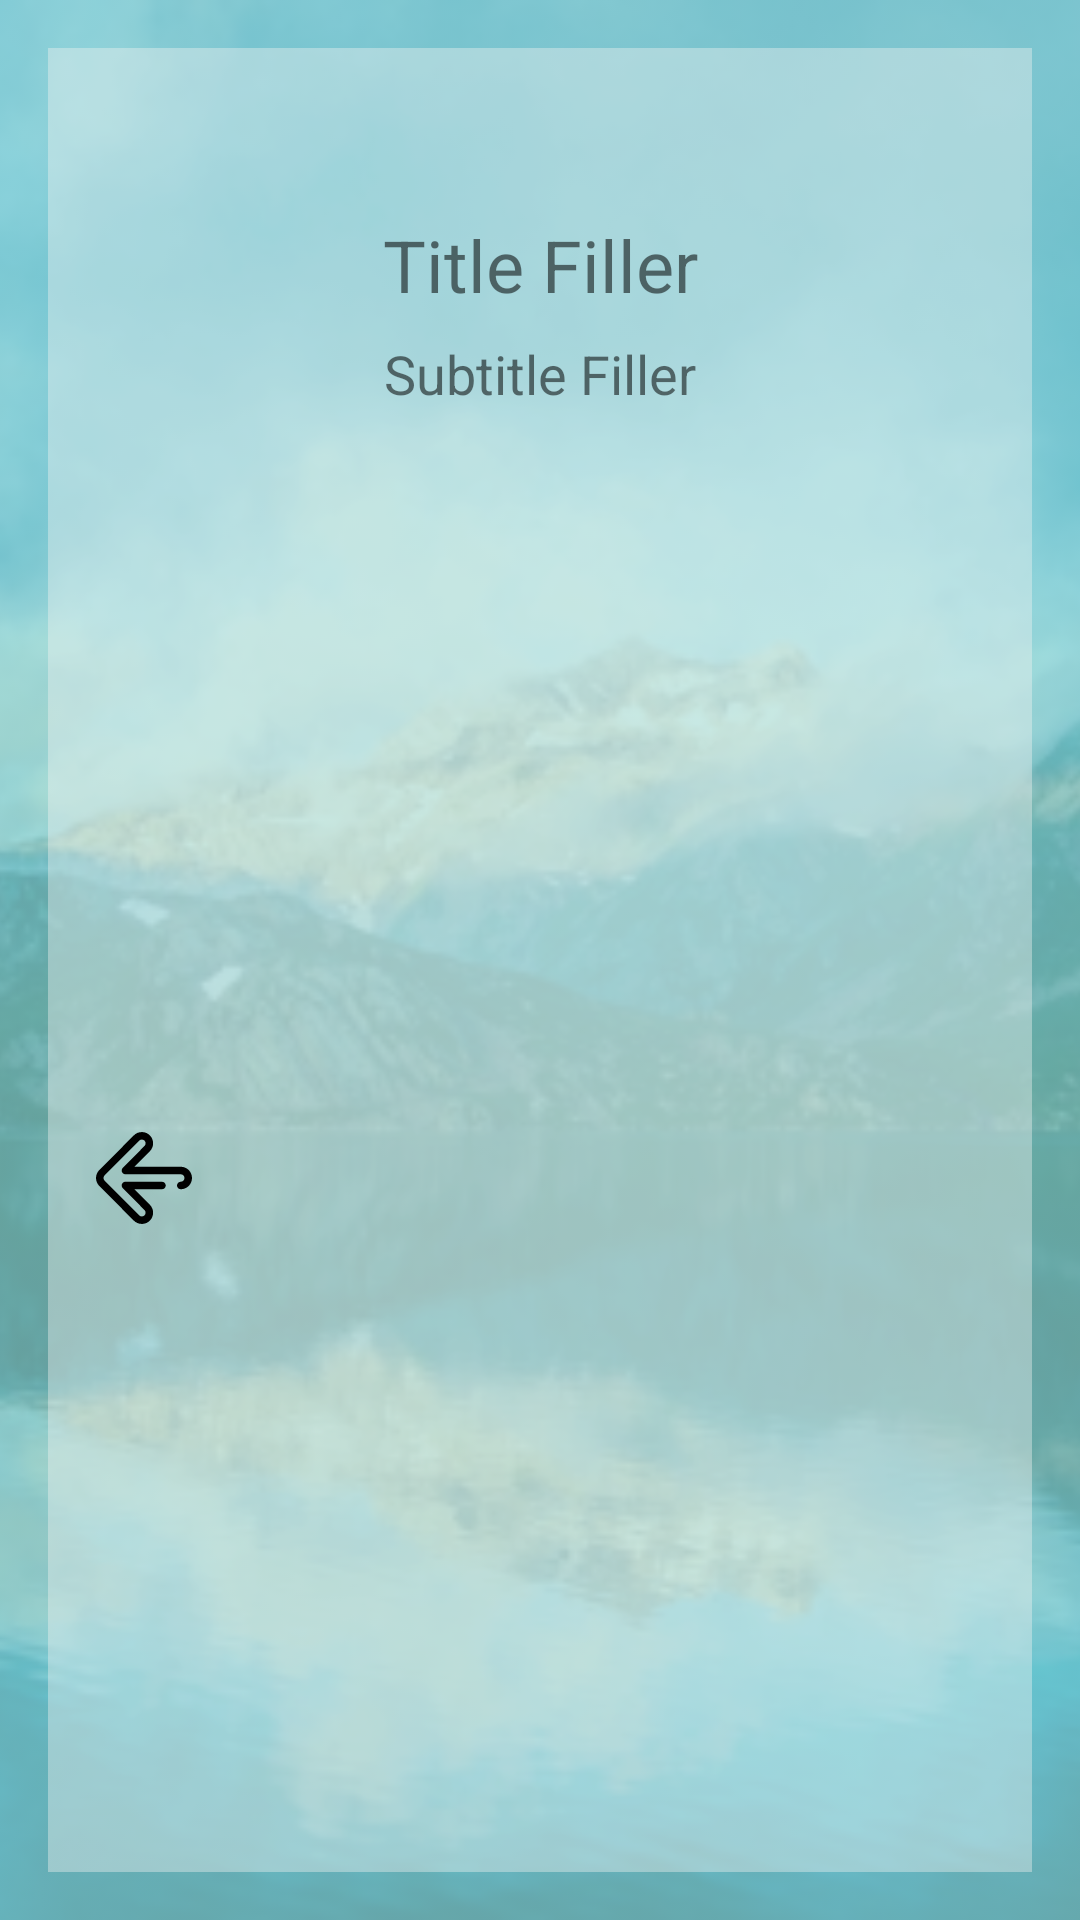

Screen size 1080×1920. Icon name, then its center in pixels as (x=x, y=y):
arrow left: (x=144, y=1178)
